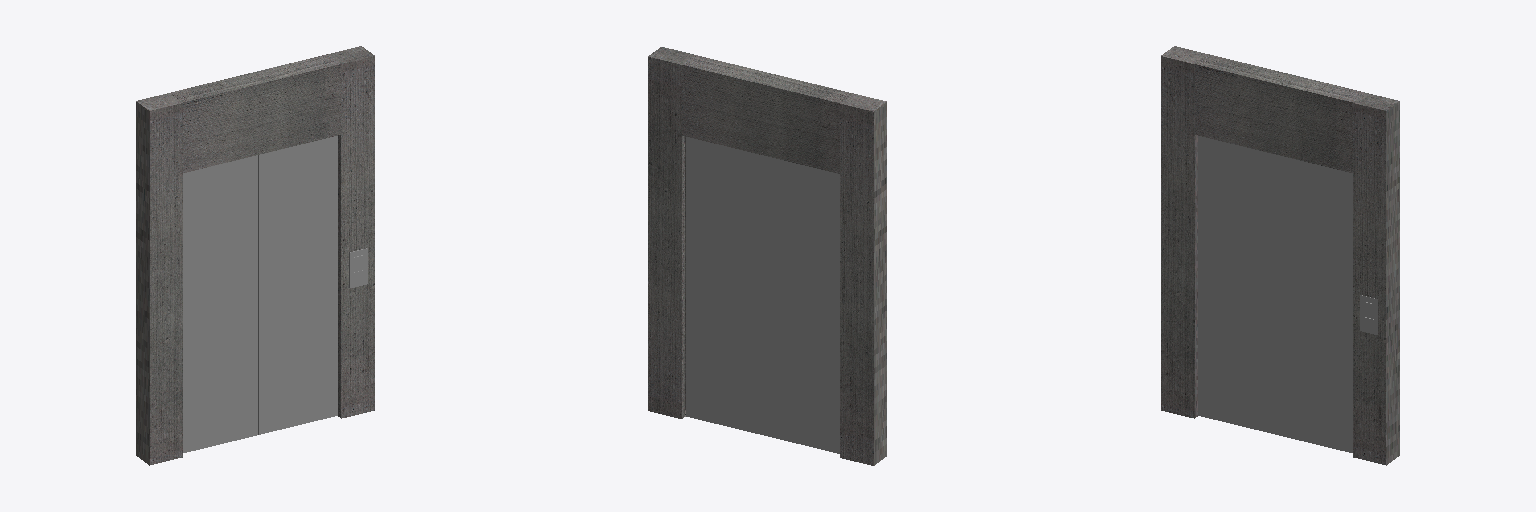
3 renders of one model, left to right at view 1: azimuth 30°, elevation 25°; view 2: azimuth 150°, elevation 25°; view 3: azimuth 330°, elevation 25°, orthographic.
Parts seen in each view (by area): view 1: Cube.006_Cube.007, Cube, Cube.001; view 2: Cube.006_Cube.007, Cube, Cube.001; view 3: Cube.006_Cube.007, Cube.001, Cube.
Part boxes in pixels (bbox=[...]): Cube.006_Cube.007: bbox=[136, 46, 374, 465]; Cube: bbox=[258, 136, 337, 434]; Cube.001: bbox=[183, 155, 257, 452]; Cube.006_Cube.007: bbox=[648, 47, 886, 465]; Cube: bbox=[686, 137, 764, 435]; Cube.001: bbox=[765, 156, 839, 453]; Cube.006_Cube.007: bbox=[1161, 46, 1399, 465]; Cube.001: bbox=[1198, 136, 1276, 434]; Cube: bbox=[1277, 155, 1352, 452].
Bounding box in the file's own units: 2 × 3 × 0.2239.
3 materials, 1 textured.